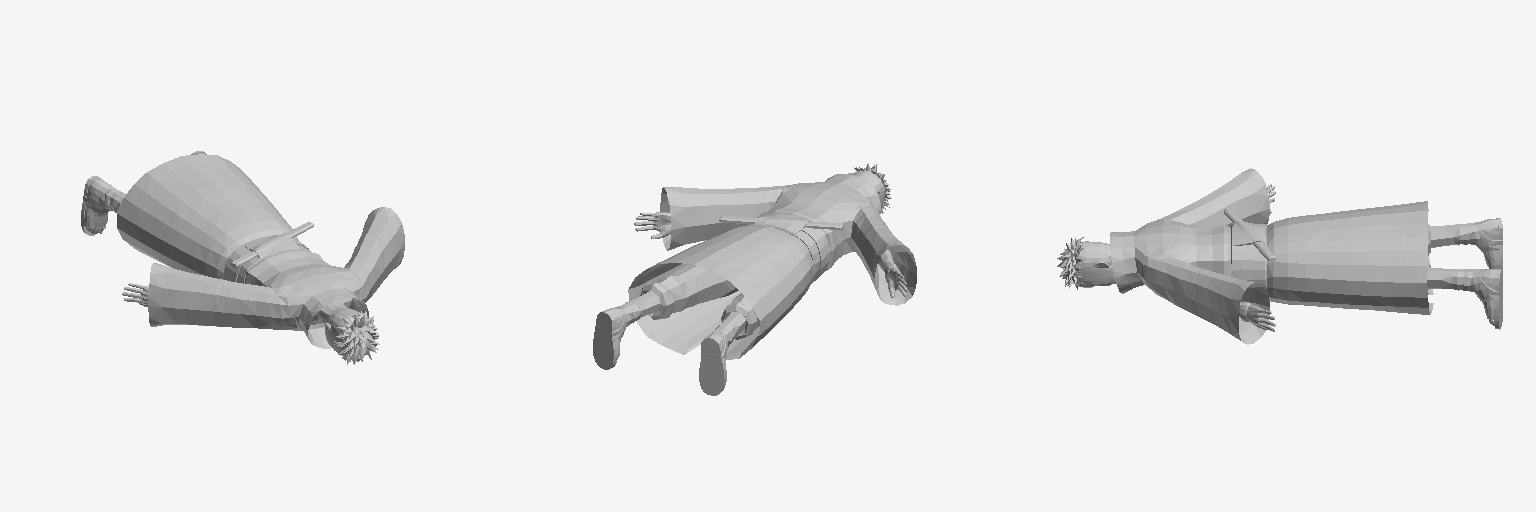
File: Obito.obj
3 views of the same model, side by side, from view 1: azimuth 30°, elevation 25°; view 2: azimuth 150°, elevation 25°; view 3: azimuth 270°, elevation 25° (orthographic).
Parts seen in each view (by area): view 1: body; view 2: body; view 3: body.
Part boxes in pixels (x1,y1,x2,y2): body: (81, 151, 404, 364); body: (593, 163, 916, 395); body: (1057, 168, 1502, 344).
Size of the model in its own units: 50.09 by 16 by 70.83.